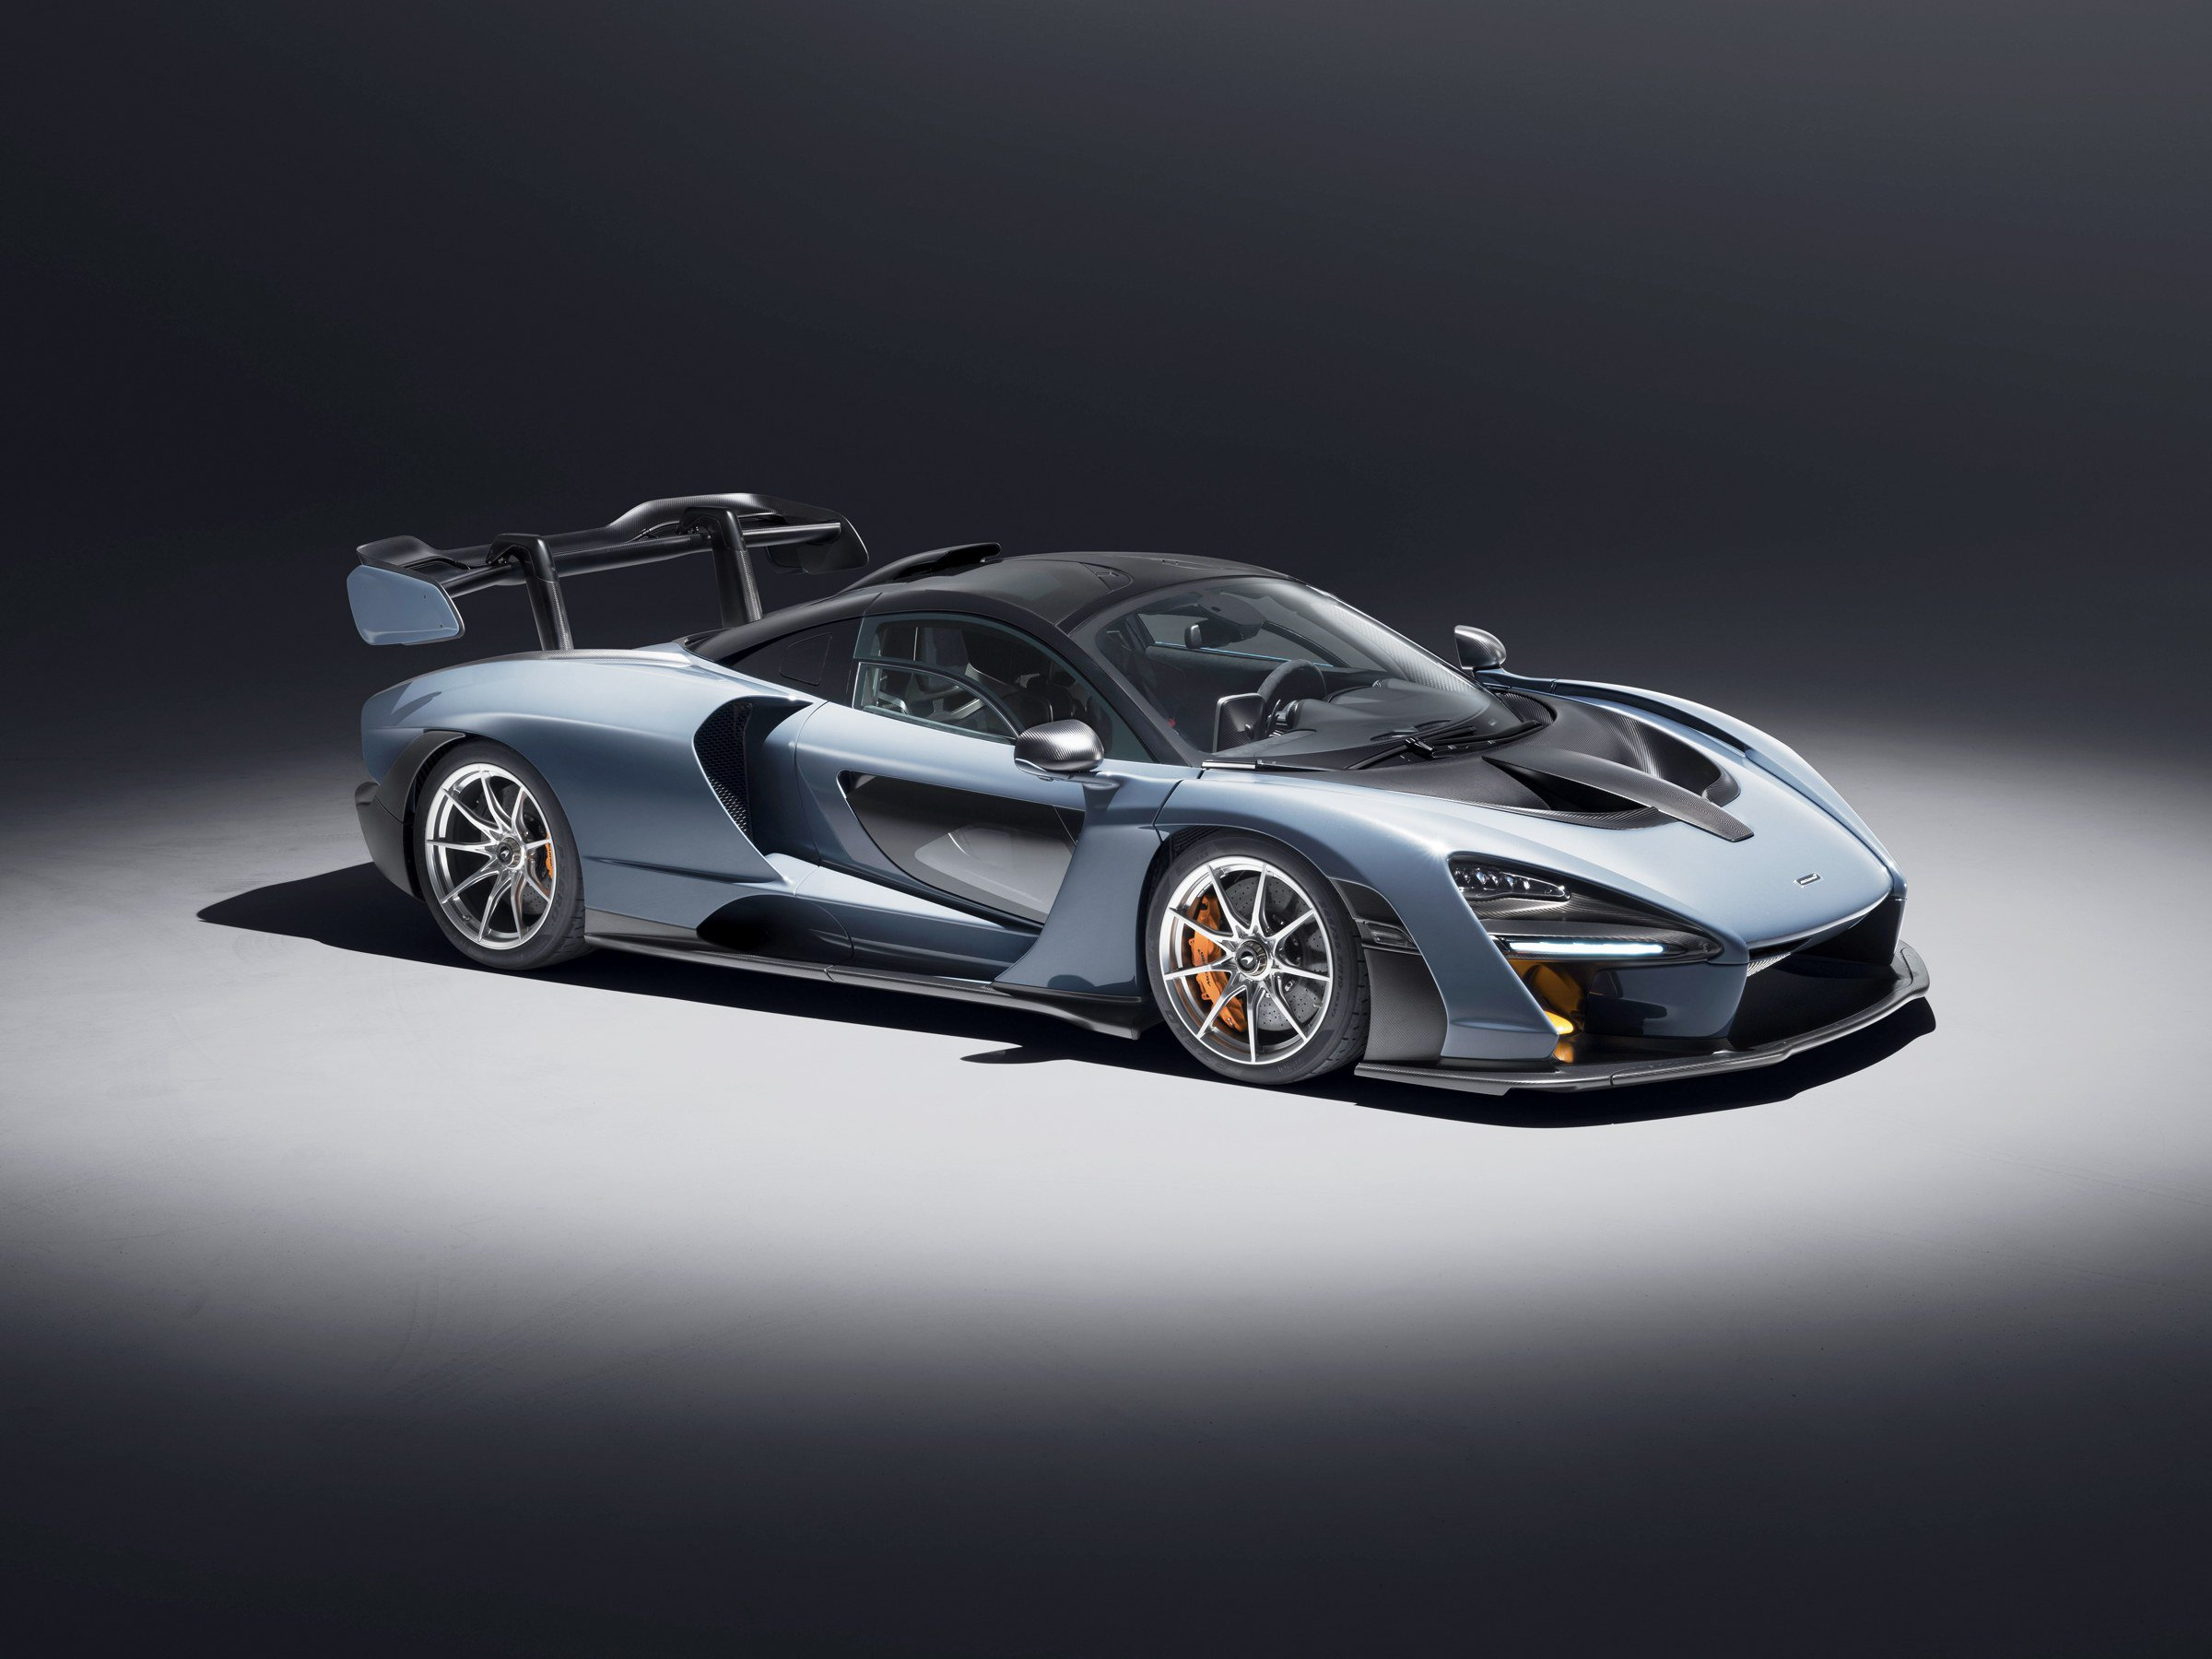car: (338, 416, 1951, 1136)
